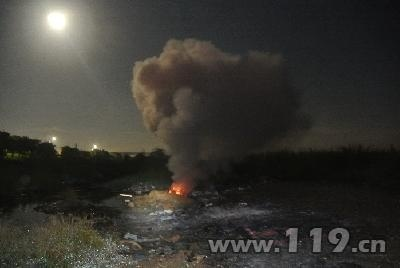fire: (169, 181, 188, 195)
